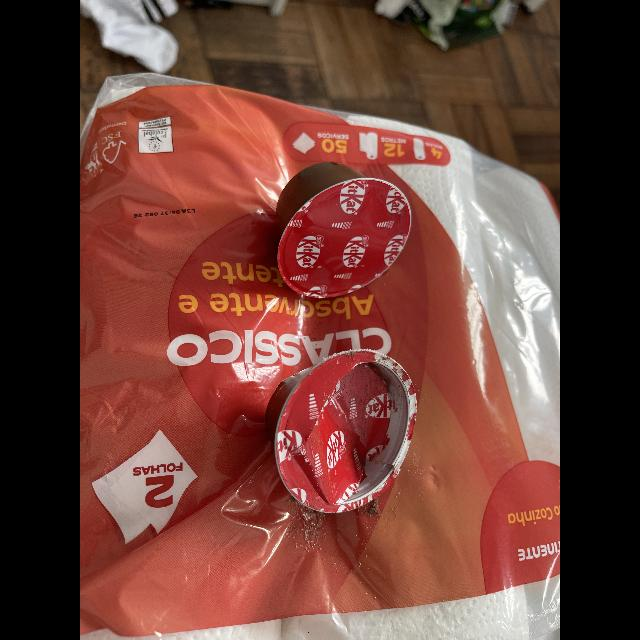damaged_capsule: (264, 342, 432, 522)
intact_capsule: (269, 154, 426, 312)
